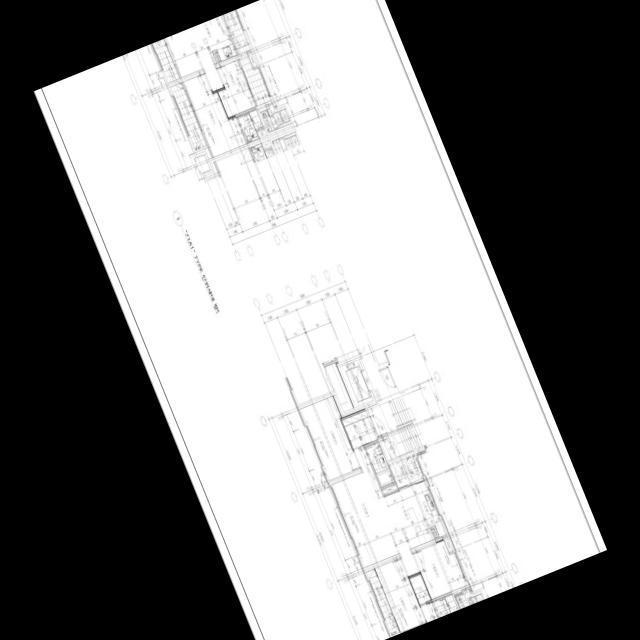background: (33, 0, 607, 640)
space_balconi: (223, 10, 270, 105), (170, 82, 211, 158), (366, 569, 399, 635), (388, 454, 423, 488), (152, 38, 179, 82)
space_bedroom: (183, 73, 246, 157), (300, 395, 359, 480), (374, 558, 437, 633), (413, 540, 466, 599), (217, 60, 255, 117)
space_elevator: (339, 359, 373, 407)
space_elevator_hall: (358, 344, 405, 456)
space_front: (341, 410, 377, 452)
space_kitchen: (388, 481, 446, 549), (201, 23, 237, 64)
space_living_room: (330, 448, 419, 576), (165, 15, 224, 91)
space_other: (325, 363, 353, 412), (409, 574, 430, 604), (266, 104, 291, 129), (462, 589, 483, 606), (380, 438, 395, 460), (260, 110, 274, 132), (381, 484, 397, 494), (247, 52, 257, 67), (443, 536, 452, 552), (456, 595, 466, 608), (261, 140, 271, 149), (257, 129, 266, 138)
space_staircase: (384, 395, 425, 453)
space_toilet: (365, 442, 394, 487), (237, 109, 262, 142), (433, 594, 457, 617)
